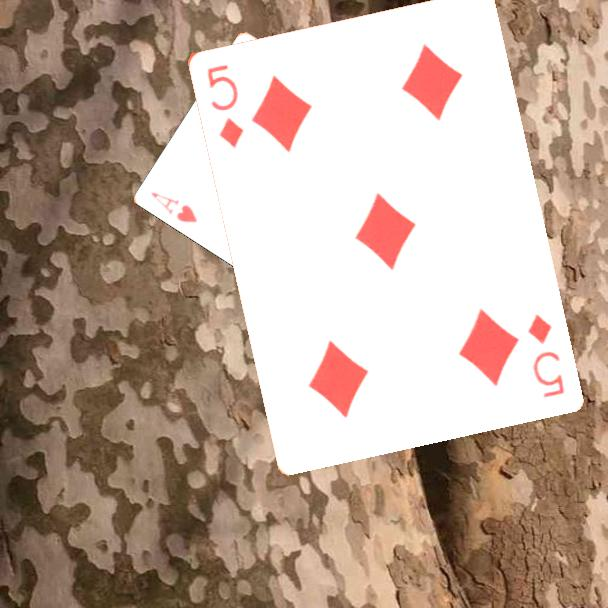d05: (523, 309, 567, 400), (203, 60, 246, 151)
h01: (148, 188, 201, 226)
